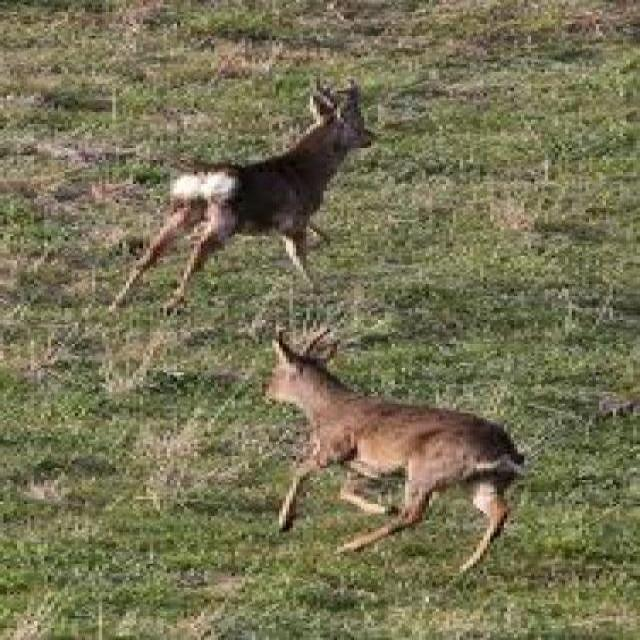deer: (67, 71, 417, 332), (240, 318, 544, 569)
